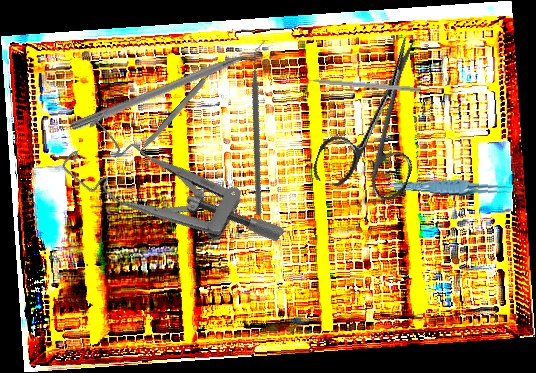Chopper: (179, 40, 344, 216), (296, 70, 422, 93)
Iris Scissors: (309, 22, 453, 208)
Pusher: (69, 40, 277, 134)
Scalpel Handle: (137, 66, 219, 155)
Speculum: (57, 91, 287, 303)
Tissue Forceps: (393, 172, 516, 204)
